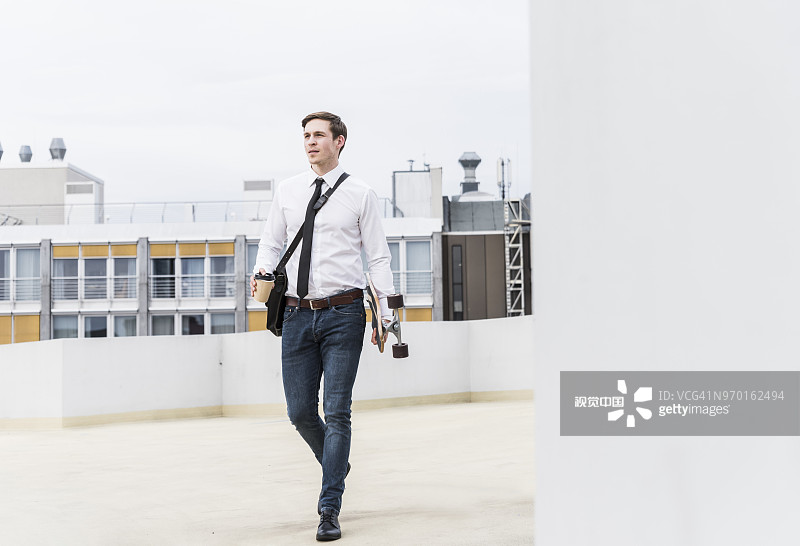no-phone: (245, 262, 280, 307), (368, 318, 400, 357)
